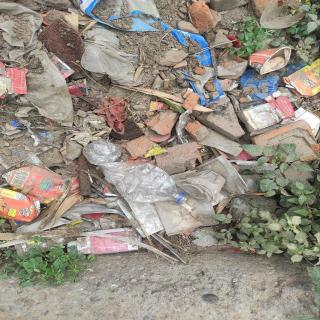Plastic-bottle: (80, 138, 192, 208)
